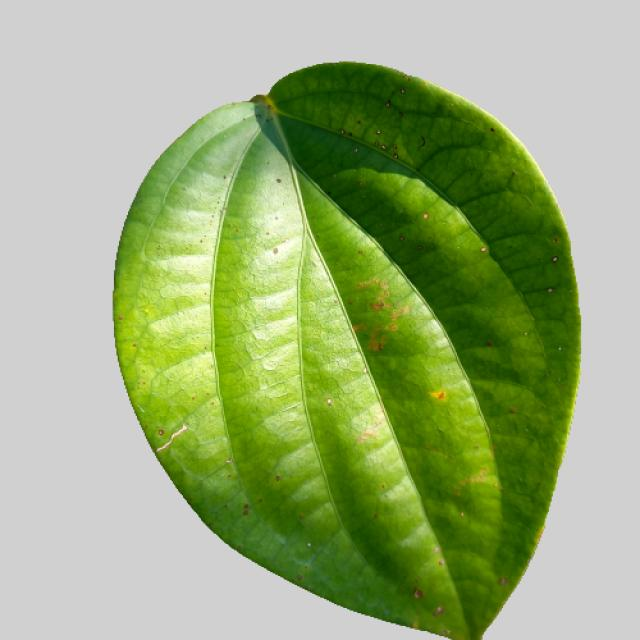healthy: (108, 56, 587, 640)
